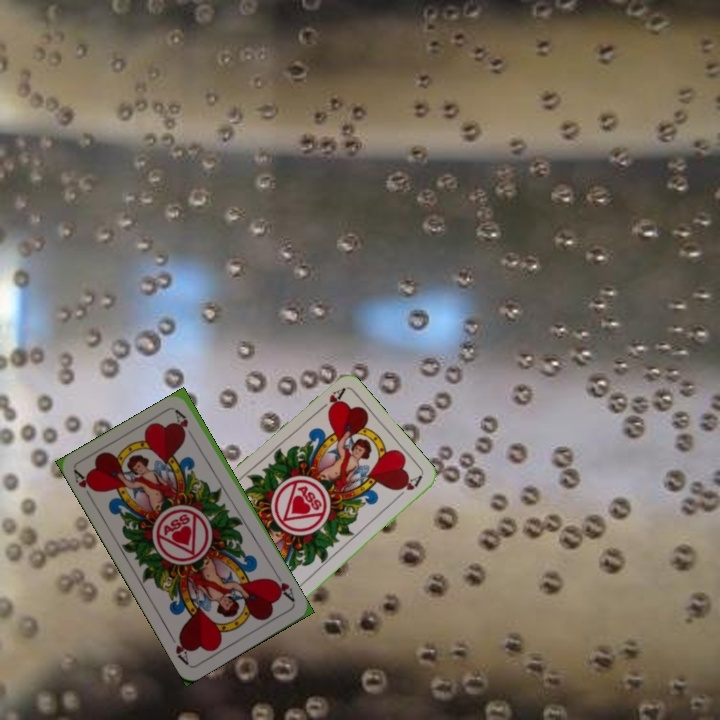HA: (70, 466, 99, 504), (312, 384, 347, 415), (268, 575, 297, 605)
